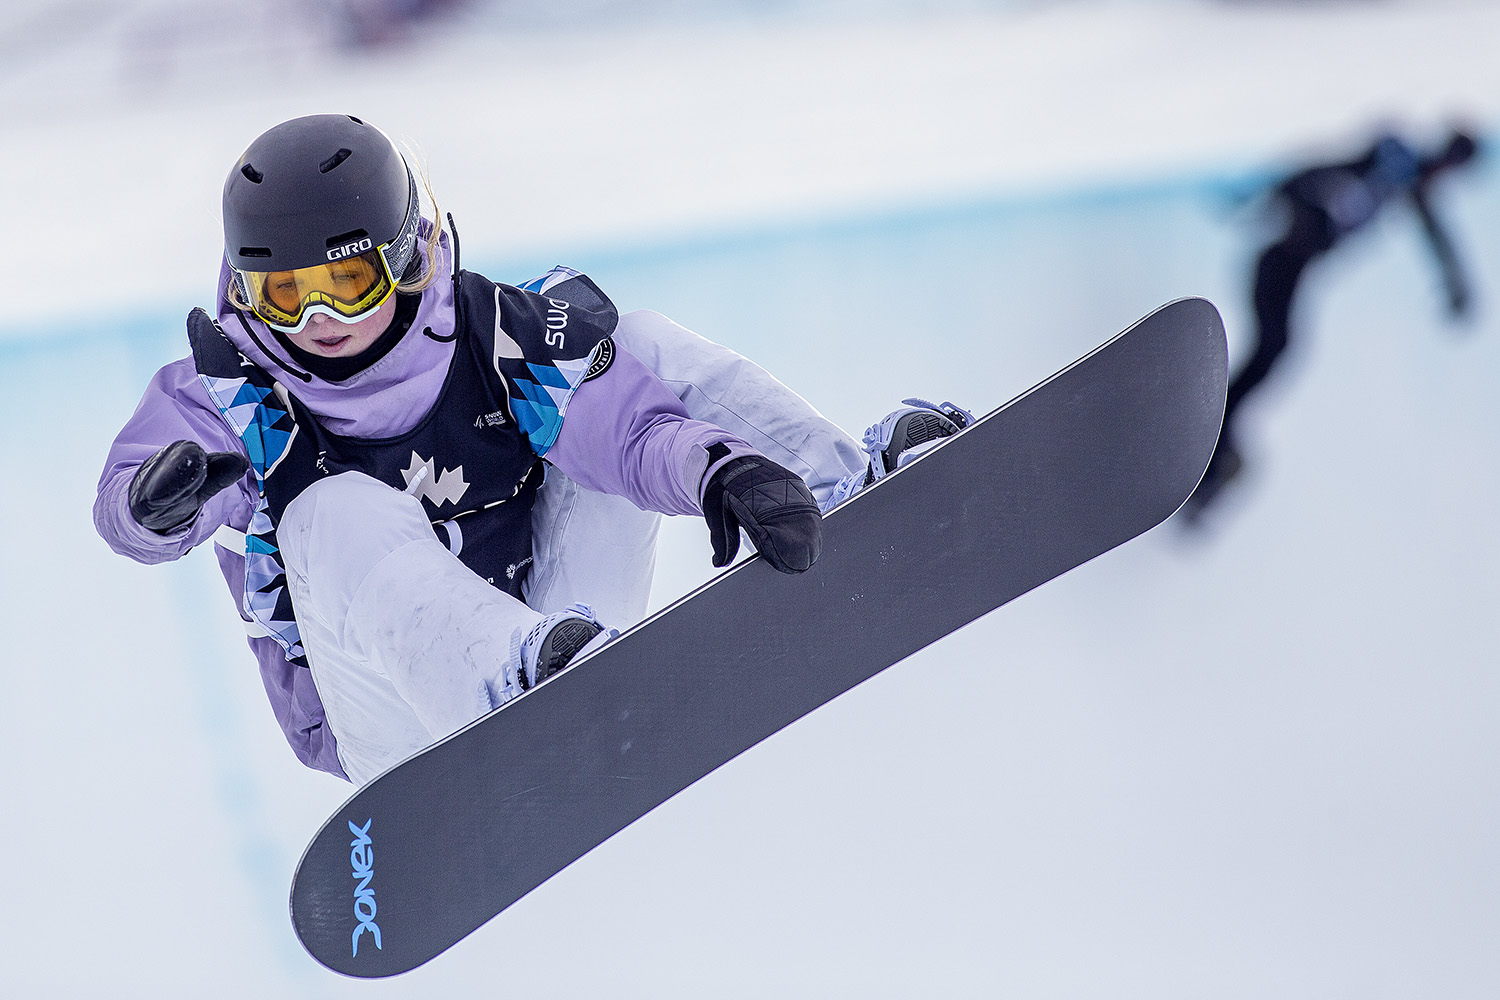snowboarder: (83, 121, 1229, 977)
